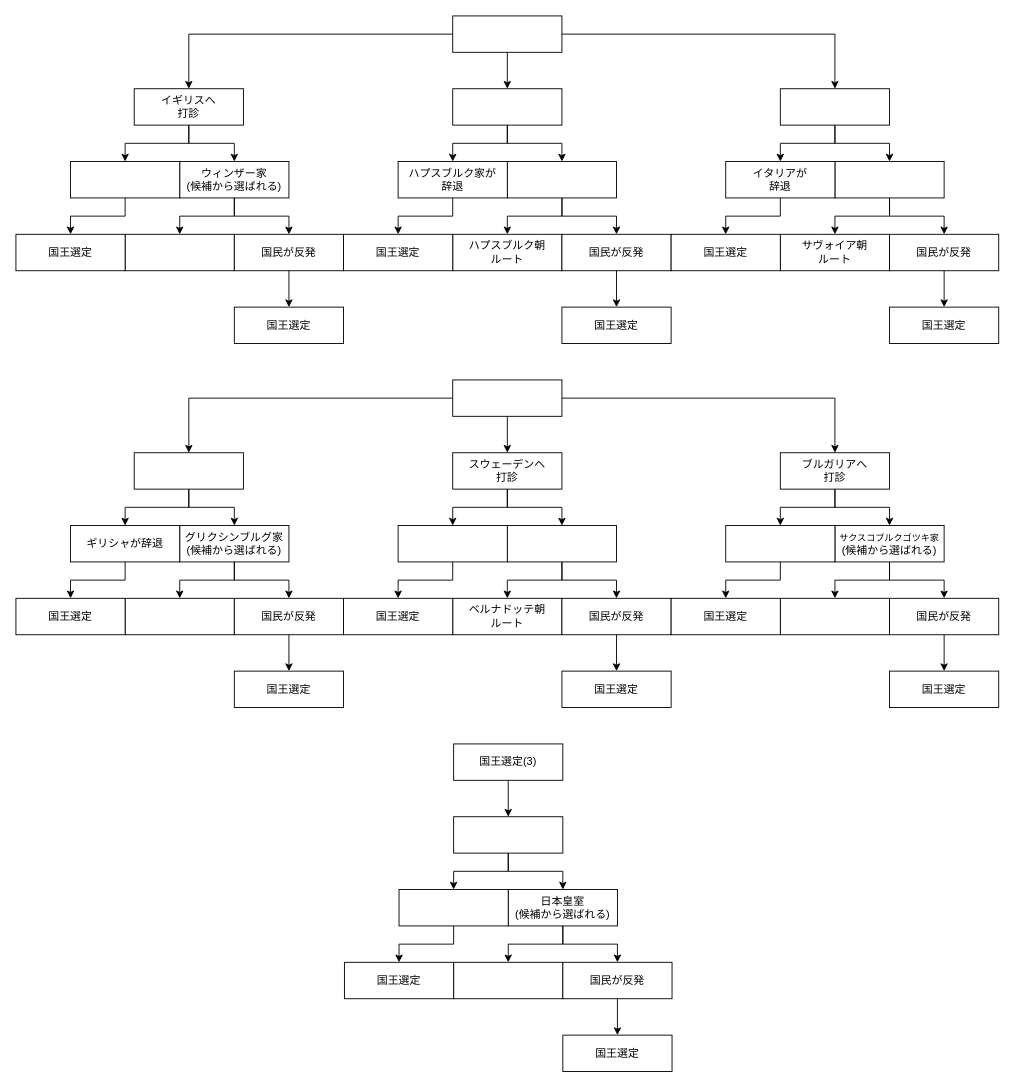
This 1015x1087 diagram has some shape labels left out. Each missing label, with the box of its shape:
イギリスが辞退: (70, 161, 180, 198)
イタリアへ 打診: (779, 88, 890, 125)
ウィンザー朝 ルート: (124, 233, 234, 271)
ギリシャへ 打診: (133, 452, 243, 489)
グリクシンブルグ朝 ルート: (124, 597, 234, 635)
サクスコブルクゴツキ朝 ルート: (779, 597, 890, 635)
サヴォイア家 (候補から選ばれる): (834, 161, 944, 198)
スウェーデンが 辞退: (397, 525, 507, 562)
ハプスブルク家 (候補から選ばれる): (506, 161, 617, 198)
ハプスブルク家へ 打診: (452, 88, 562, 125)
ブルガリアが 辞退: (725, 525, 835, 562)
ベルナドッテ家 (候補から選ばれる): (506, 525, 617, 562)
国王選定(1): (452, 15, 562, 52)
国王選定(2): (452, 379, 562, 416)
日本が 辞退: (398, 889, 508, 926)
日本へ 打診: (453, 816, 563, 853)
日本皇室 ルート: (453, 961, 563, 999)
